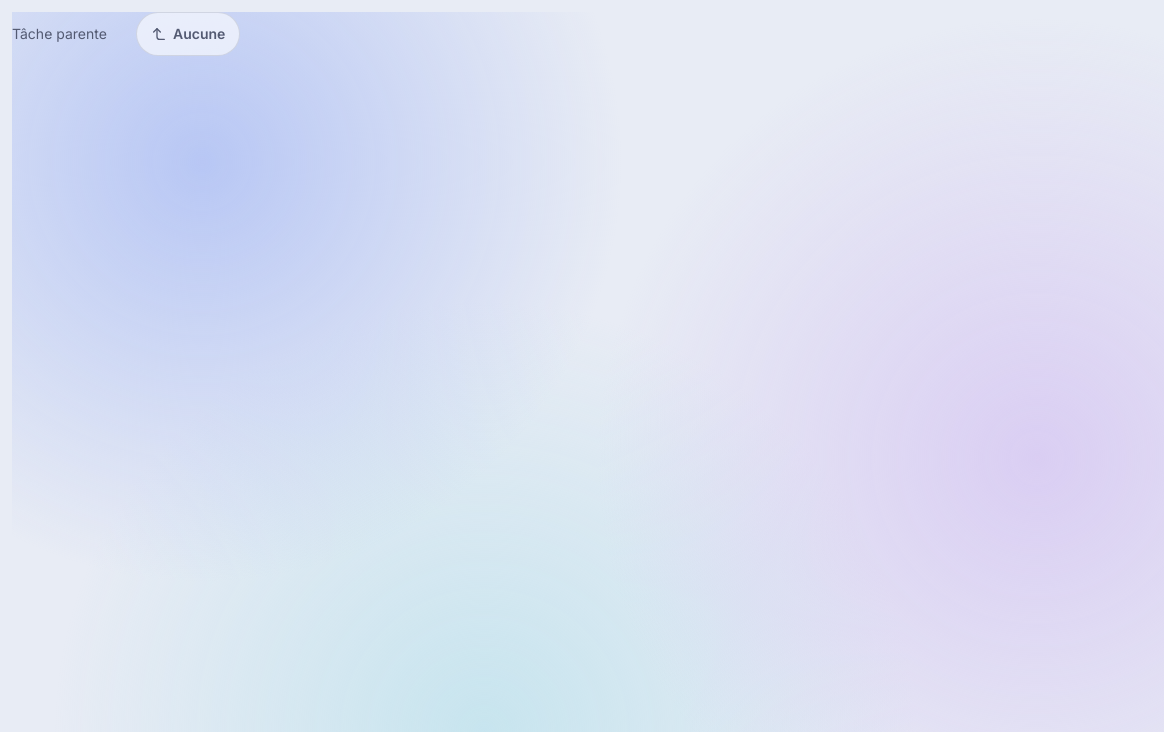
Test: propriété « Tâche parente » › refus cross_side_parent traduit sous le champ
The width and height of the screenshot is (1164, 732).
Click the button with aria-label "Tâche parente : Aucune": [188, 34] box [136, 12, 240, 56]
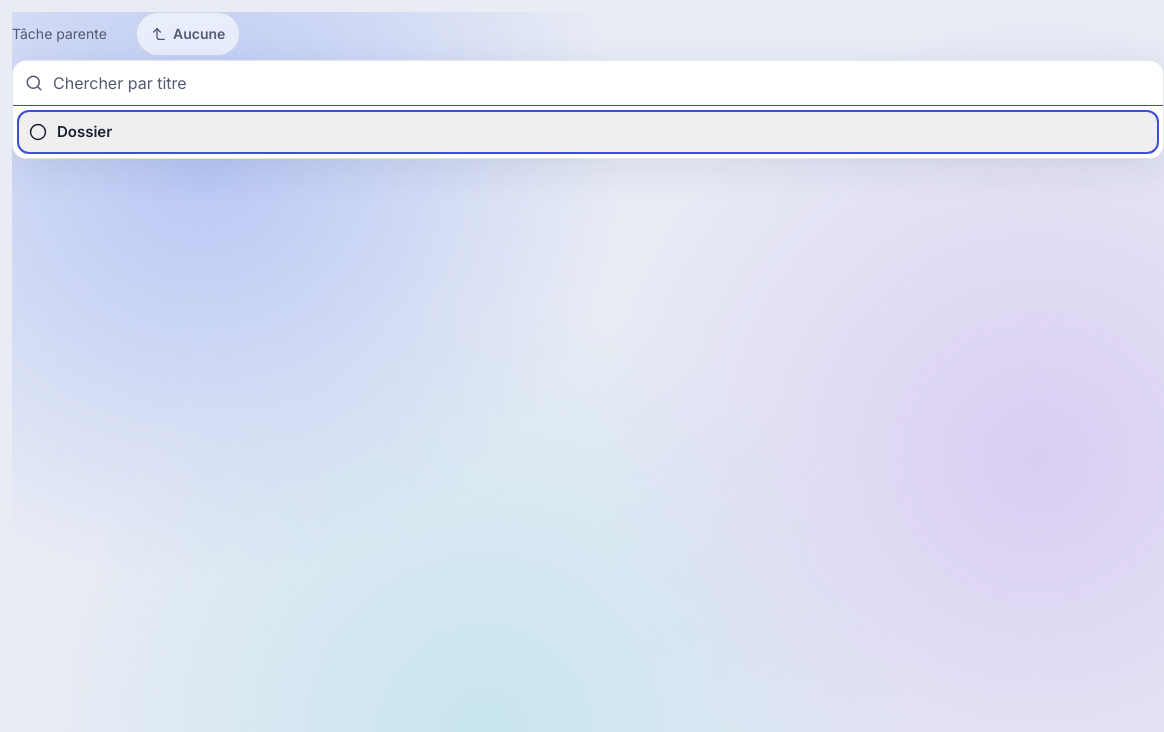
Click the option "Dossier": [85, 131] box [17, 110, 1159, 154]
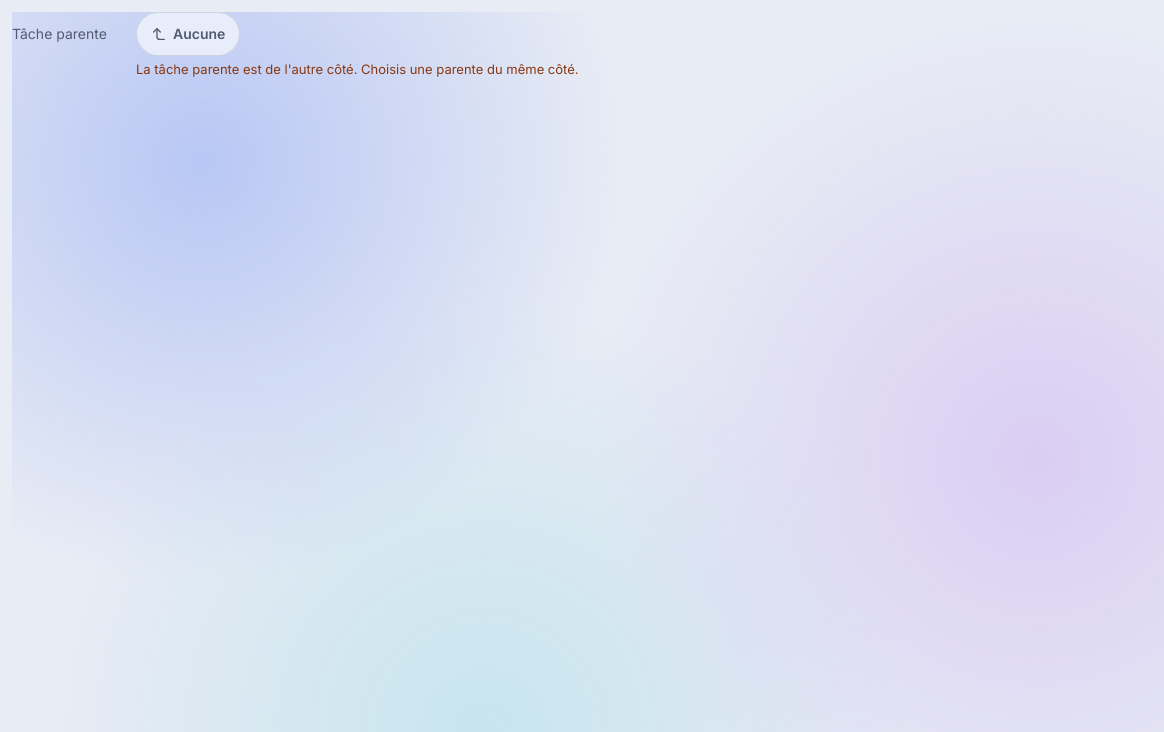
Check: the message reads "La tâche parente est de l'autre côté. Choisis une parente du même côté.", box [136, 61, 578, 77]
